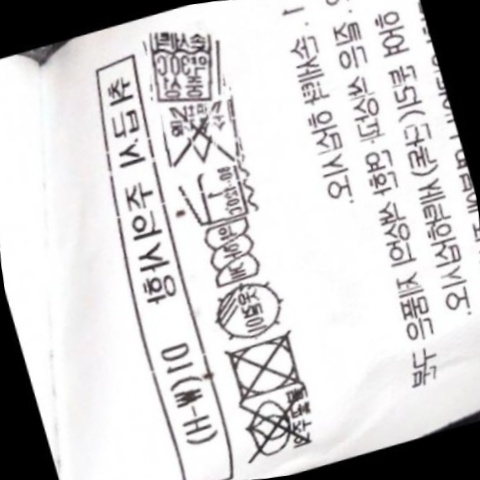DN_tumble_dry: (216, 323, 316, 408)
hand_wash: (136, 21, 232, 111)
iron_low: (176, 157, 258, 233)
line_dry_in_shade: (202, 273, 295, 348)
wring: (197, 213, 269, 293)
